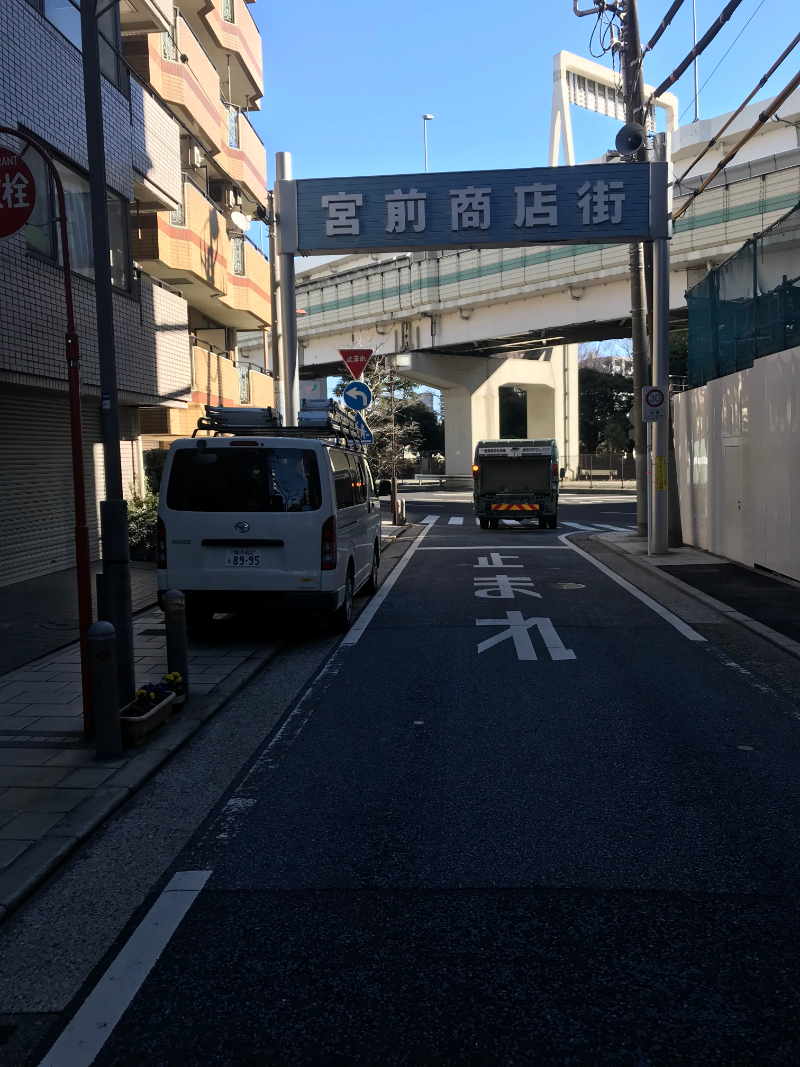STOP: (335, 346, 373, 381)
